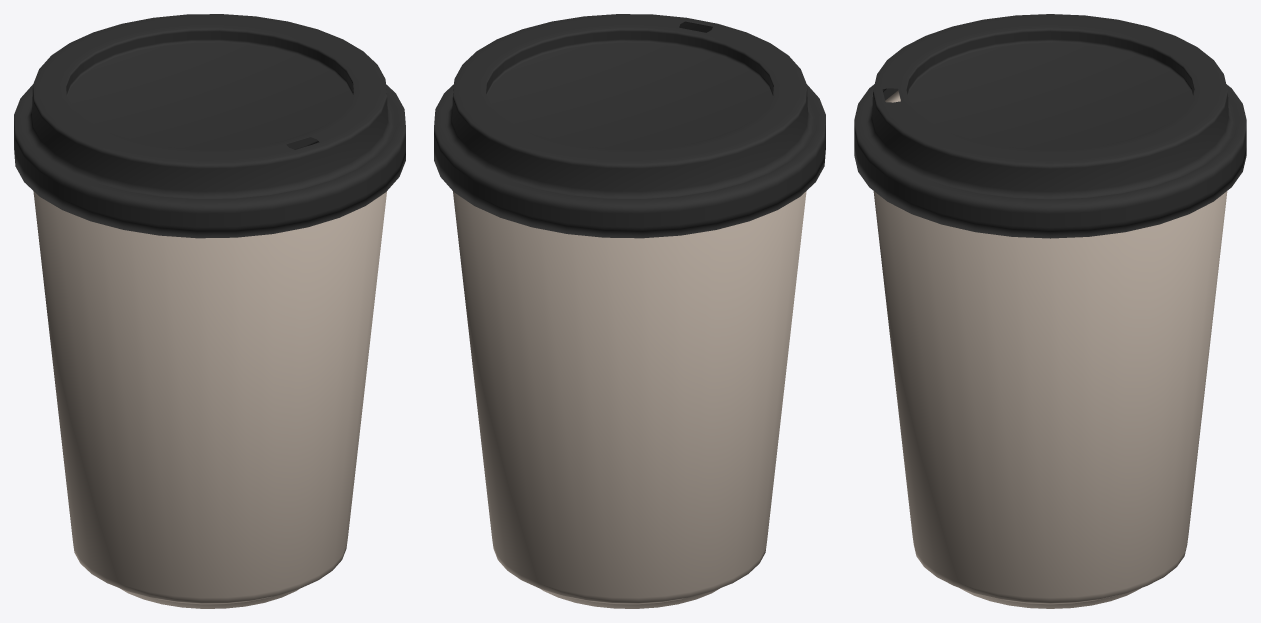
File: disposable cup.fbx
3 views of the same model, side by side, from view 1: azimuth 30°, elevation 25°; view 2: azimuth 150°, elevation 25°; view 3: azimuth 270°, elevation 25° (orthographic).
Visible parts, largest first — view 1: Cylinder, Cylinder.001; view 2: Cylinder, Cylinder.001; view 3: Cylinder, Cylinder.001.
Boxes of the visible parts, left/top/right/bottom form: Cylinder: left=33, top=191, right=386, bottom=608; Cylinder.001: left=14, top=14, right=405, bottom=238; Cylinder: left=453, top=191, right=806, bottom=608; Cylinder.001: left=434, top=14, right=825, bottom=238; Cylinder: left=873, top=90, right=1227, bottom=608; Cylinder.001: left=854, top=14, right=1246, bottom=238.
Size of the model in its own units: 200 by 267 by 200.
